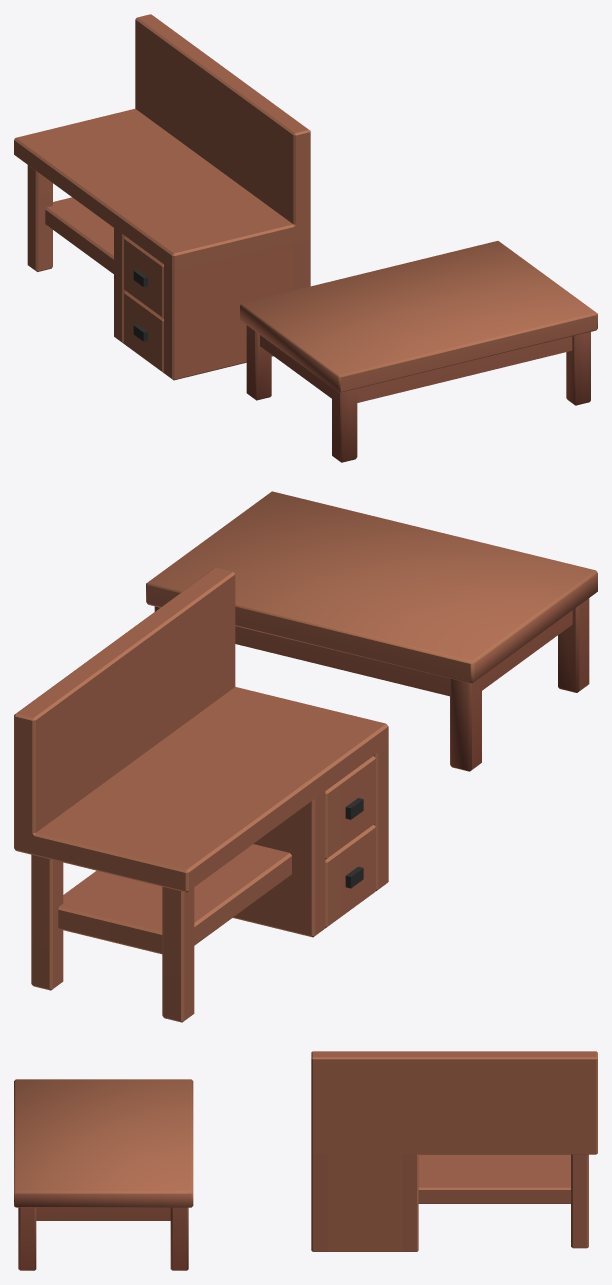
File: Newdesk17.glb
3 views of the same model, one above another, from view 1: azimuth 30°, elevation 25°; view 2: azimuth 150°, elevation 25°; view 3: azimuth 270°, elevation 25° (orthographic). The views are drawn at different scales.
Parts seen in each view (by area): view 1: table_medium_long, Cube.003, Cube.004, Cube.011, Cube.007, Cube.008, Cube.006, Cube.005, Cube.010; view 2: table_medium_long, Cube.003, Cube.004, Cube.007, Cube.010, Cube.008, Cube.009, Cube.006, Cube.005, Cube.011; view 3: table_medium_long, Cube.004, Cube.007, Cube.012, Cube.003, Cube.009, Cube.010, Cube.011.
Boxes of the visible parts, left/top/right/bottom form: table_medium_long: left=240, top=241, right=597, bottom=462; Cube.003: left=14, top=108, right=310, bottom=271; Cube.004: left=135, top=14, right=310, bottom=224; Cube.011: left=164, top=237, right=310, bottom=380; Cube.007: left=45, top=197, right=113, bottom=273; Cube.008: left=27, top=165, right=52, bottom=271; Cube.006: left=124, top=291, right=163, bottom=372; Cube.005: left=124, top=237, right=163, bottom=318; Cube.010: left=114, top=228, right=125, bottom=343; table_medium_long: left=146, top=491, right=597, bottom=771; Cube.003: left=14, top=687, right=388, bottom=892; Cube.004: left=14, top=567, right=235, bottom=833; Cube.007: left=58, top=844, right=291, bottom=954; Cube.010: left=233, top=791, right=325, bottom=937; Cube.008: left=162, top=886, right=194, bottom=1022; Cube.009: left=31, top=854, right=63, bottom=990; Cube.006: left=325, top=824, right=375, bottom=928; Cube.005: left=325, top=756, right=375, bottom=859; Cube.011: left=374, top=745, right=388, bottom=890; table_medium_long: left=14, top=1079, right=193, bottom=1270; Cube.004: left=311, top=1051, right=597, bottom=1139; Cube.007: left=418, top=1154, right=570, bottom=1203; Cube.012: left=327, top=1154, right=402, bottom=1251; Cube.003: left=311, top=1138, right=597, bottom=1154; Cube.009: left=571, top=1154, right=588, bottom=1248; Cube.010: left=402, top=1154, right=418, bottom=1251; Cube.011: left=311, top=1154, right=327, bottom=1251.
Size of the model in its own units: 30.5 by 24 by 65.17.
Materials: 3 (2 with a texture image).
